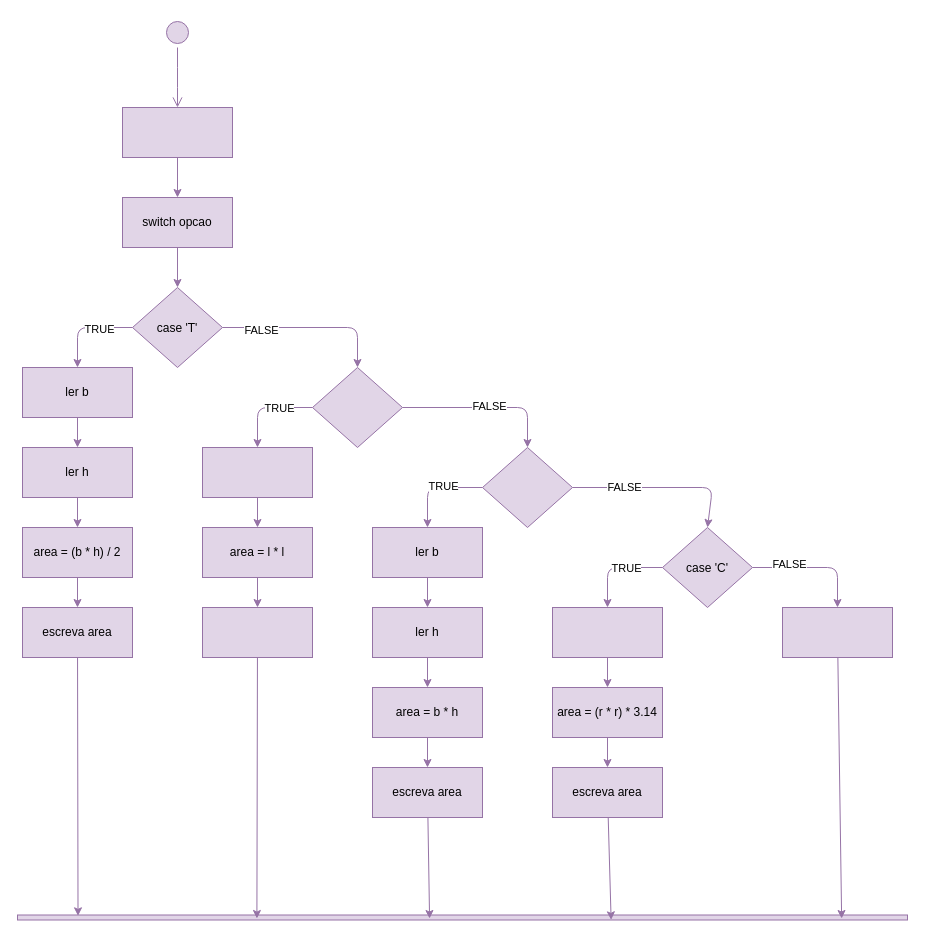
Some shapes in this 925 by 946 pixel diagram are drawn without their labels. Here are the shapes that lost their labels. From the top down, the centre of each, then its label:
At pixel 177 132: "ler opcao".
At pixel 357 407: "case 'Q'".
At pixel 257 472: "ler l".
At pixel 527 487: "case 'R'".
At pixel 257 632: "escreva l".
At pixel 607 632: "ler r".
At pixel 837 632: "escreva Opção Inválida!".
